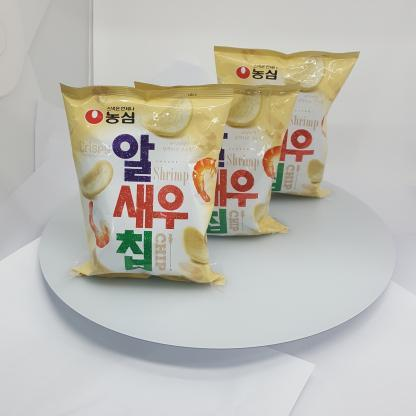Plastic Packaging: (59, 39, 224, 287), (230, 49, 352, 201)
